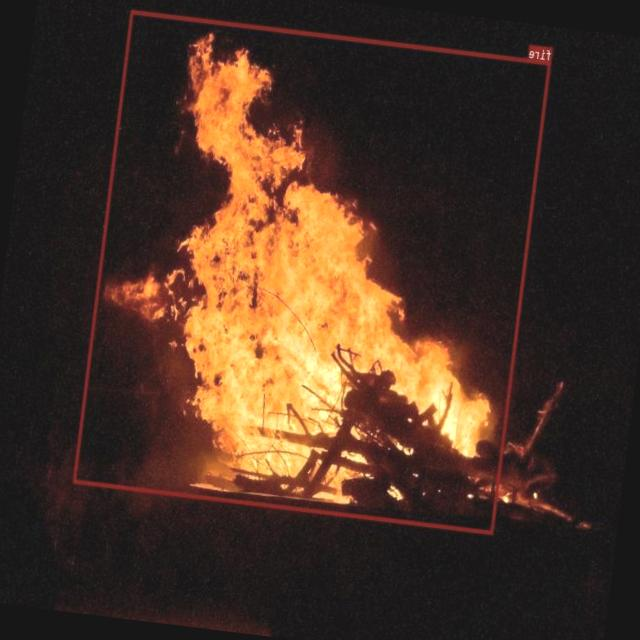fire: (72, 9, 552, 534)
